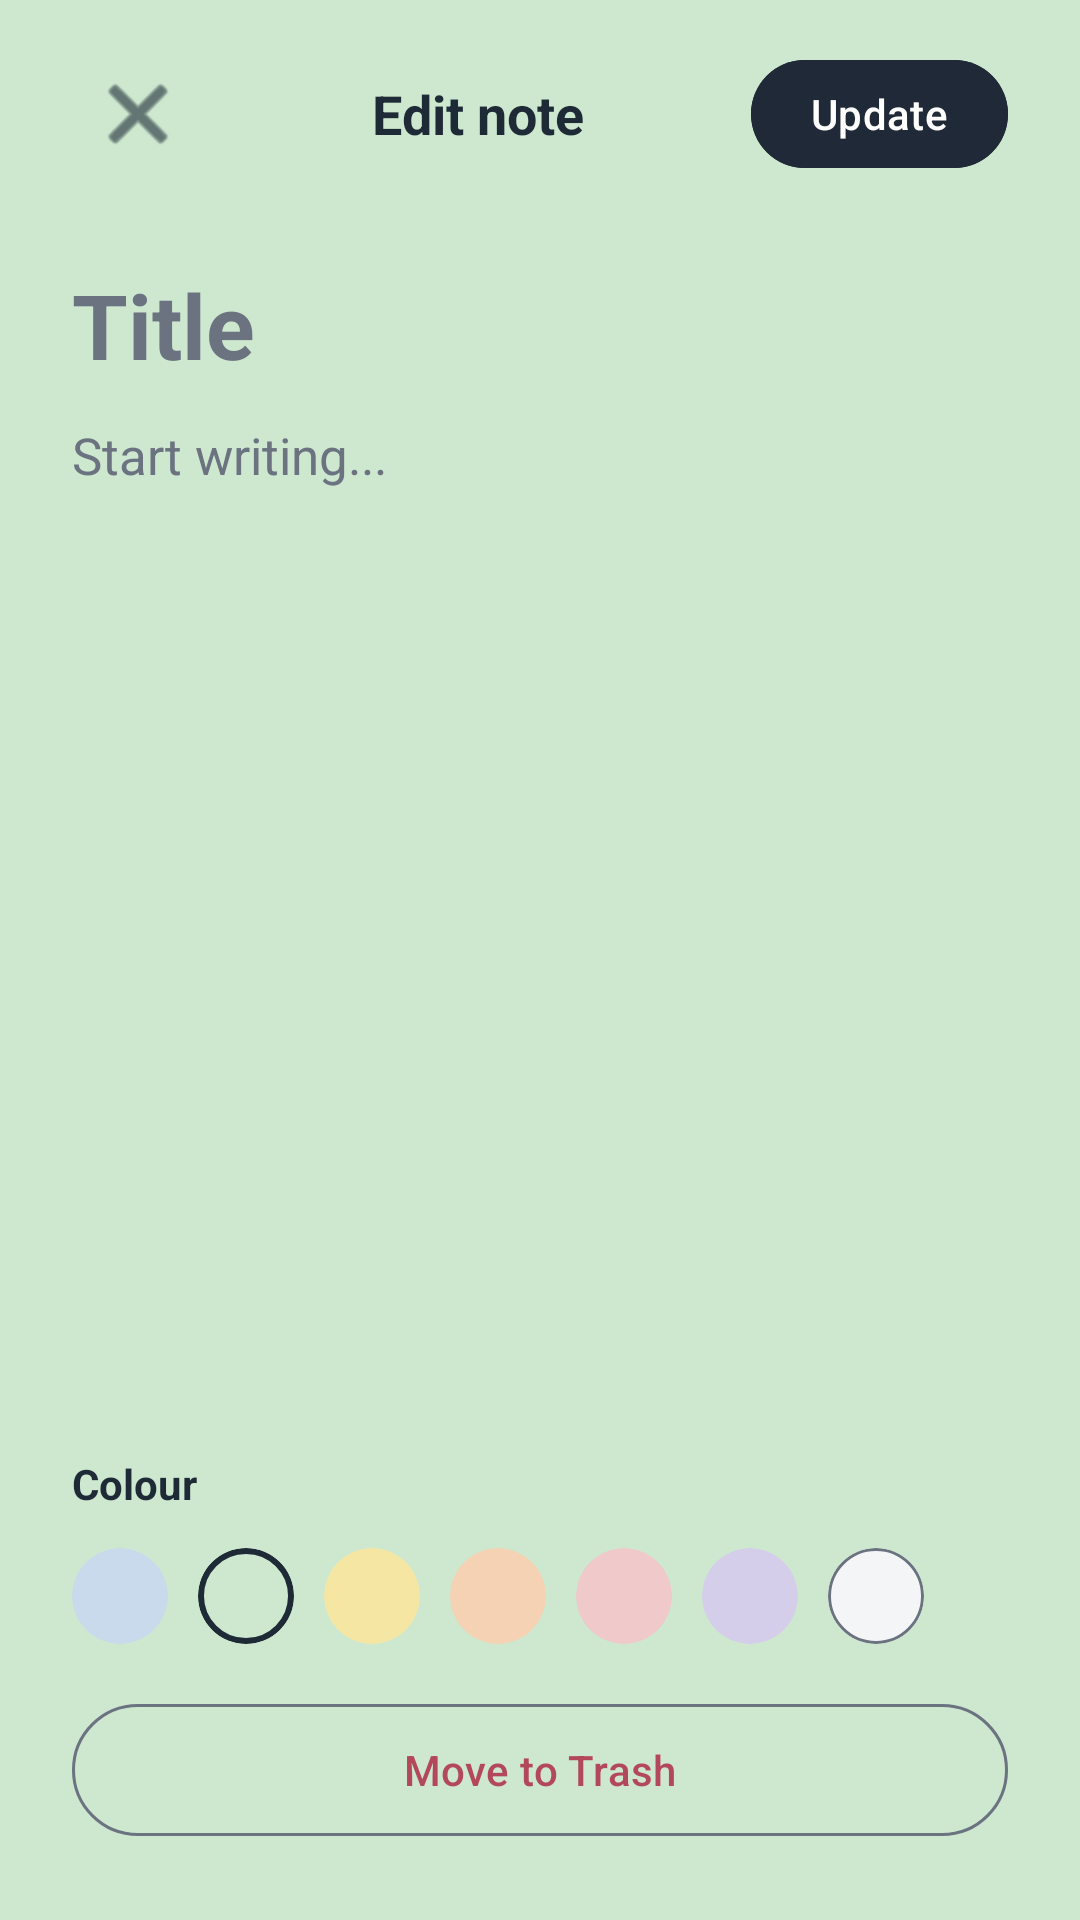

Locate icon controls on the screen. Image size 1080*1920, boxes as (x1, y1, x2, y2).
Close: (108, 84, 168, 144)
